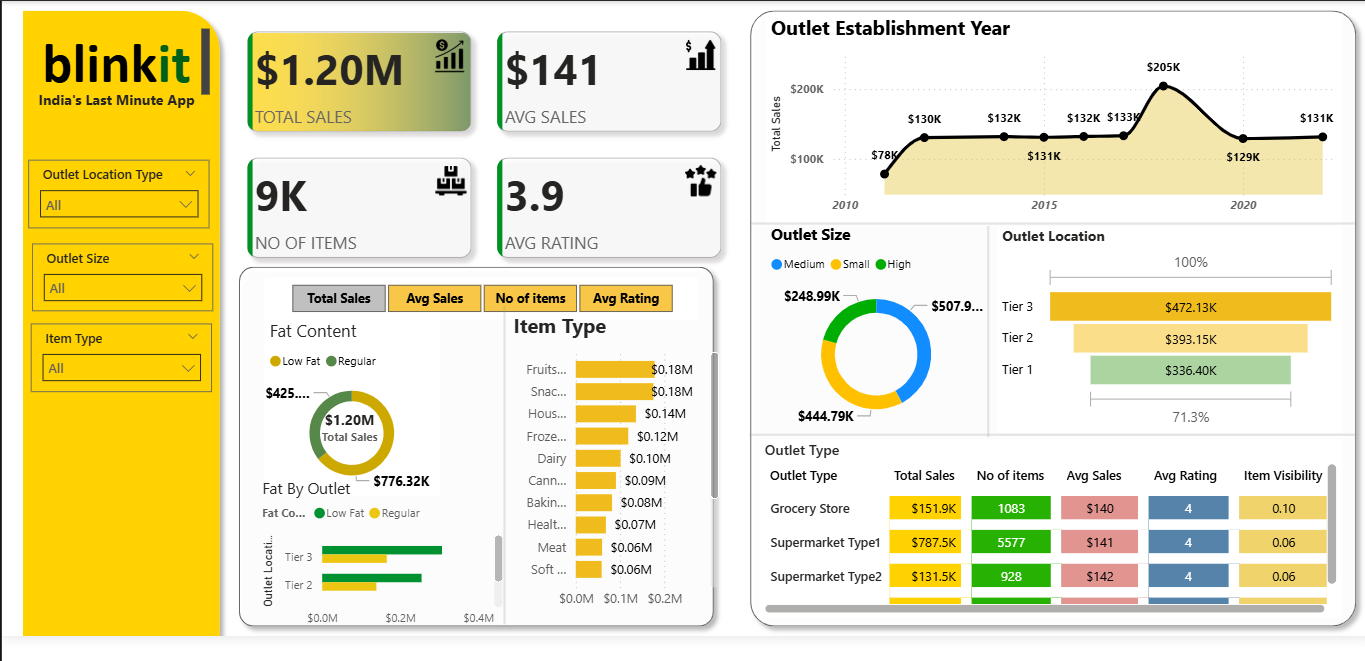

This screenshot's page, from the dashboard's own definition file:
{"tool":"powerbi","page":{"name":"Page 1","canvas":[1300,600],"ordinal":0},"visuals":[{"type":"shape","box":[10.5,0,204.1,800],"z":0},{"type":"textbox","box":[33,21,168.1,73.5],"z":1000},{"type":"textbox","box":[30,79.5,166.6,30],"z":2000},{"type":"cardVisual","fields":{"Data":["BlinkIT Grocery Data.Total Sales","BlinkIT Grocery Data.Avg Sales","BlinkIT Grocery Data.No of items","BlinkIT Grocery Data.Avg Rating"]},"box":[214.9,11.8,483,249.2],"z":3000},{"type":"shape","box":[214.9,242.1,466.5,357.8],"z":4000},{"type":"donutChart","title":"Fat Content","fields":{"Y":["BlinkIT Grocery Data.Total Sales"],"Category":["BlinkIT Grocery Data.Item Fat Content"]},"box":[248,300,165.3,167.7],"z":5000},{"type":"slicer","fields":{"Values":["Metrics 2.Metrics"]},"box":[248,261,409.8,40.2],"z":6000},{"type":"cardVisual","fields":{"Data":["BlinkIT Grocery Data.Total Sales"]},"box":[283.4,369.6,90.9,60.2],"z":7000},{"type":"clusteredBarChart","title":"Fat By Outlet","fields":{"Y":["BlinkIT Grocery Data.Total Sales"],"Category":["BlinkIT Grocery Data.Outlet Location Type"],"Series":["BlinkIT Grocery Data.Item Fat Content"]},"box":[240.9,449.9,237.4,150],"z":8000},{"type":"shape","box":[457,288.2,35.4,301.1],"z":9000},{"type":"barChart","title":"Item Type","fields":{"Y":["BlinkIT Grocery Data.Total Sales"],"Category":["BlinkIT Grocery Data.Item Type"]},"box":[478.3,294.1,204.3,289.3],"z":10000},{"type":"shape","box":[697.9,0,590.5,599.9],"z":11000},{"type":"lineChart","title":"Outlet Establishment Year","fields":{"Y":["BlinkIT Grocery Data.Total Sales"],"Category":["BlinkIT Grocery Data.Outlet Establishment Year"]},"box":[721.6,11.8,544.4,198.4],"z":12000},{"type":"shape","box":[706.2,405.1,572.8,9.4],"z":13000},{"type":"donutChart","title":"Outlet Size","fields":{"Category":["BlinkIT Grocery Data.Outlet Size"],"Y":["BlinkIT Grocery Data.Total Sales"]},"box":[721.6,210.2,209,199.6],"z":14000},{"type":"shape","box":[923.5,212.6,16.5,199.6],"z":15000},{"type":"funnel","title":"Outlet Location","fields":{"Category":["BlinkIT Grocery Data.Outlet Location Type"],"Y":["BlinkIT Grocery Data.Total Sales"]},"box":[940,212.6,325.9,194.9],"z":16000},{"type":"shape","box":[707.4,205.5,572.8,9.4],"z":17000},{"type":"pivotTable","title":"Outlet Type","fields":{"Rows":["BlinkIT Grocery Data.Outlet Type"],"Values":["BlinkIT Grocery Data.Total Sales","BlinkIT Grocery Data.No of items","BlinkIT Grocery Data.Avg Sales","BlinkIT Grocery Data.Avg Rating","Avg(BlinkIT Grocery Data.Item Visibility)"]},"box":[715.7,414.5,550.3,168.9],"z":18000},{"type":"slicer","fields":{"Values":["BlinkIT Grocery Data.Outlet Location Type"]},"box":[24.8,150,171.2,65],"z":19000},{"type":"slicer","fields":{"Values":["BlinkIT Grocery Data.Outlet Size"]},"box":[28.3,229.1,171.2,63.8],"z":20000},{"type":"slicer","fields":{"Values":["BlinkIT Grocery Data.Item Type"]},"box":[27.2,304.7,171.2,65],"z":21000}]}

Visuals, with their boxes on the page's 1300x600 design canvas (x1, y1, x2, y2). These are canvas units, not pixel positions in the 1365x661 screenshot, which may show the page scaled, cropped or inside an application window:
shape: x1=10, y1=0, x2=215, y2=800
textbox: x1=33, y1=21, x2=201, y2=94
textbox: x1=30, y1=80, x2=197, y2=110
cardVisual - BlinkIT Grocery Data.Total Sales x BlinkIT Grocery Data.Avg Sales: x1=215, y1=12, x2=698, y2=261
shape: x1=215, y1=242, x2=681, y2=600
"Fat Content" donutChart: x1=248, y1=300, x2=413, y2=468
slicer - Metrics 2.Metrics: x1=248, y1=261, x2=658, y2=301
cardVisual - BlinkIT Grocery Data.Total Sales: x1=283, y1=370, x2=374, y2=430
"Fat By Outlet" clusteredBarChart: x1=241, y1=450, x2=478, y2=600
shape: x1=457, y1=288, x2=492, y2=589
"Item Type" barChart: x1=478, y1=294, x2=683, y2=583
shape: x1=698, y1=0, x2=1288, y2=600
"Outlet Establishment Year" lineChart: x1=722, y1=12, x2=1266, y2=210
shape: x1=706, y1=405, x2=1279, y2=414
"Outlet Size" donutChart: x1=722, y1=210, x2=931, y2=410
shape: x1=924, y1=213, x2=940, y2=412
"Outlet Location" funnel: x1=940, y1=213, x2=1266, y2=408
shape: x1=707, y1=206, x2=1280, y2=215
"Outlet Type" pivotTable: x1=716, y1=414, x2=1266, y2=583
slicer - BlinkIT Grocery Data.Outlet Location Type: x1=25, y1=150, x2=196, y2=215
slicer - BlinkIT Grocery Data.Outlet Size: x1=28, y1=229, x2=200, y2=293
slicer - BlinkIT Grocery Data.Item Type: x1=27, y1=305, x2=198, y2=370
